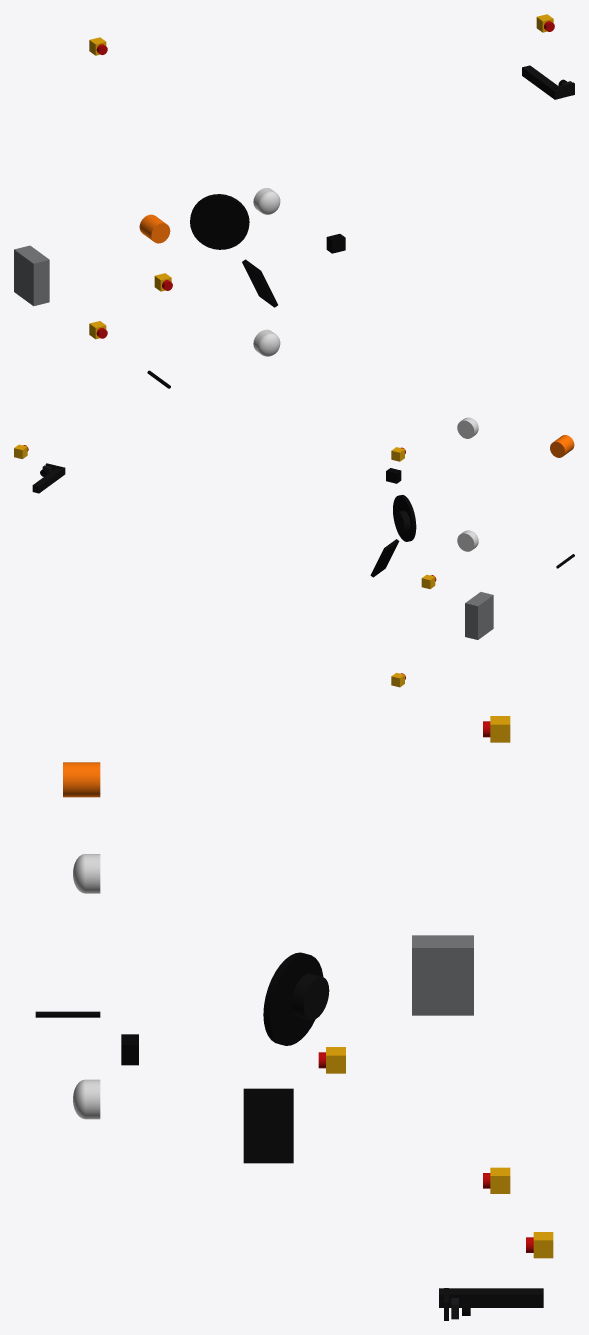
The model's file is kit.obj.
The picture shows the model from 3 angles, top to bottom: view 1: azimuth 30°, elevation 25°; view 2: azimuth 150°, elevation 25°; view 3: azimuth 270°, elevation 25°; orthographic projection. The views are drawn at different scales.
Parts seen in each view (by area): view 1: mf_5m_145_kit; view 2: mf_5m_145_kit; view 3: mf_5m_145_kit.
Boxes of the visible parts, box(x1,y1,x2,y2) form: mf_5m_145_kit: box(14, 14, 574, 388); mf_5m_145_kit: box(14, 417, 574, 687); mf_5m_145_kit: box(35, 716, 553, 1320).
Bounding box in the file's own units: 4.12 × 2.08 × 2.08.
